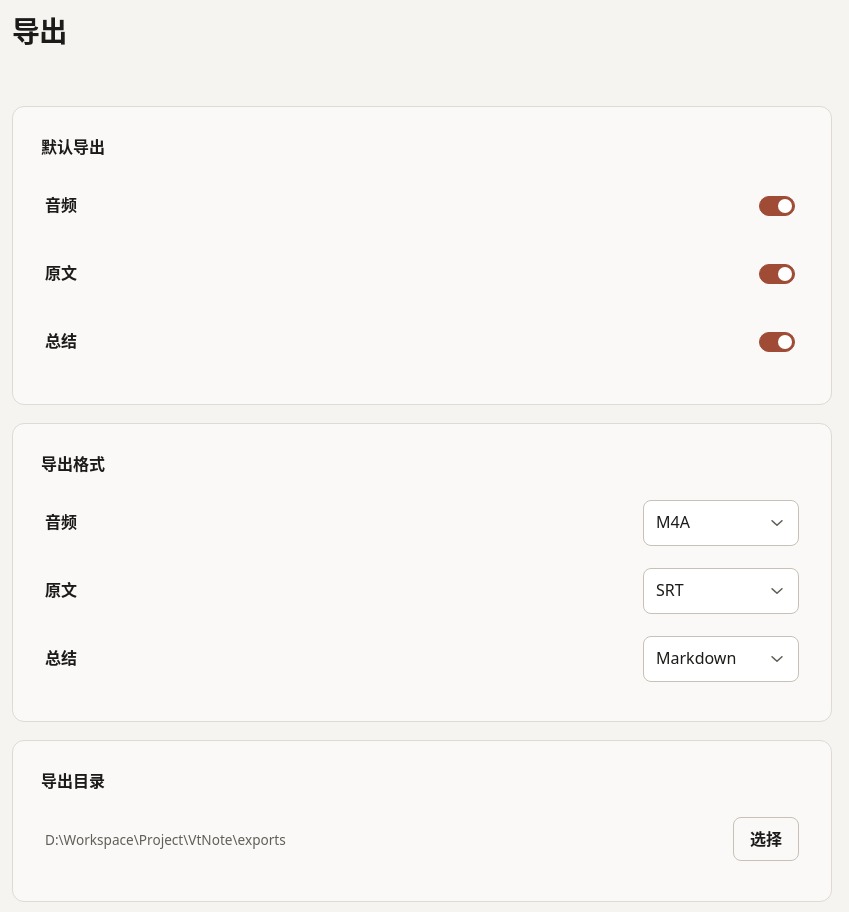
Test: SettingsPage › keeps at least one default export selected
Click the checkbox labelled "原文". click: point(61, 273)
box: [45, 262, 795, 284]
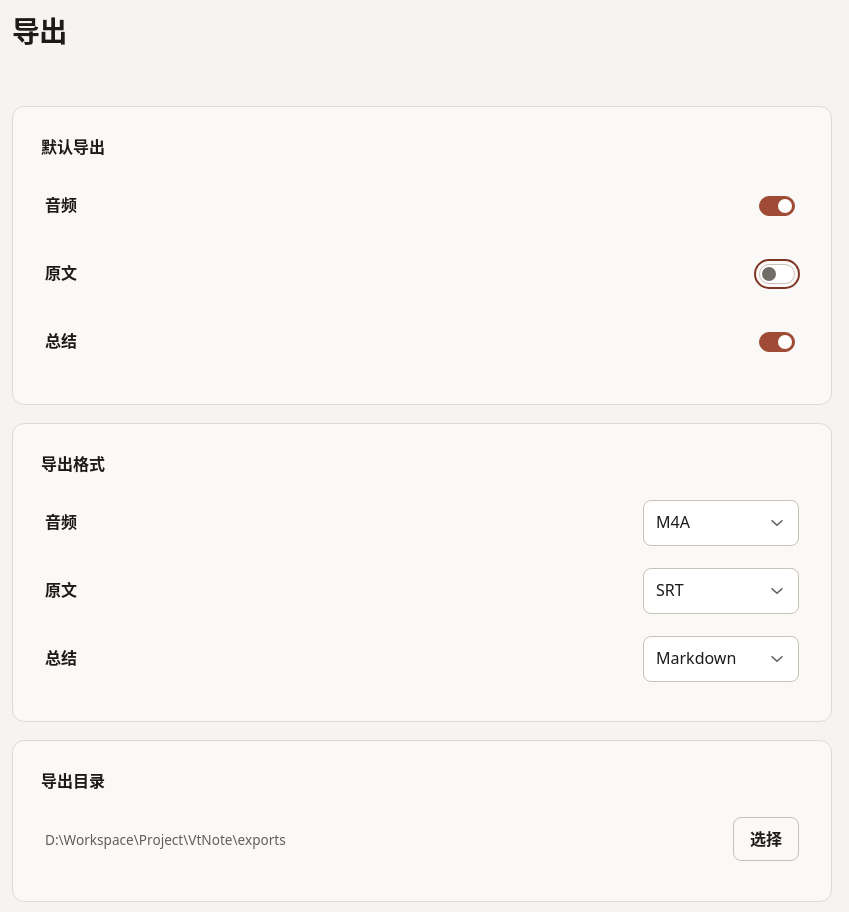
Click the checkbox labelled "总结". click: point(61, 341)
box: [45, 330, 795, 352]
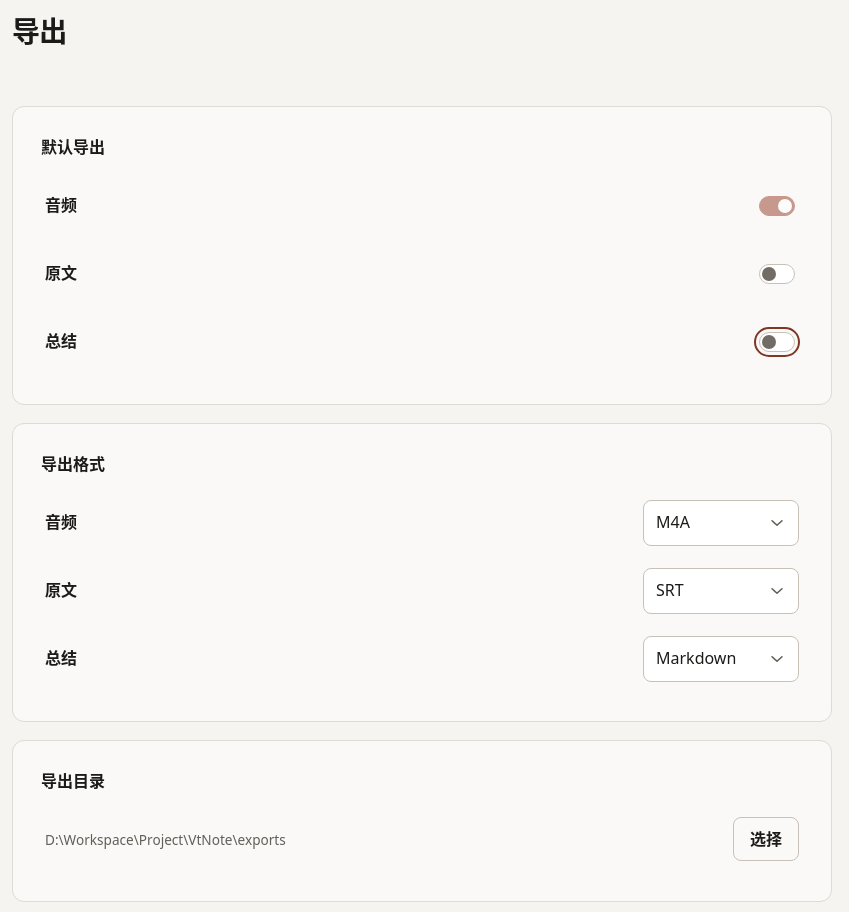
Expected: the checkbox labelled "音频" is disabled, [45, 194, 795, 216]
